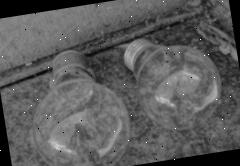lightbulb: (21, 41, 136, 166), (120, 26, 226, 138)
